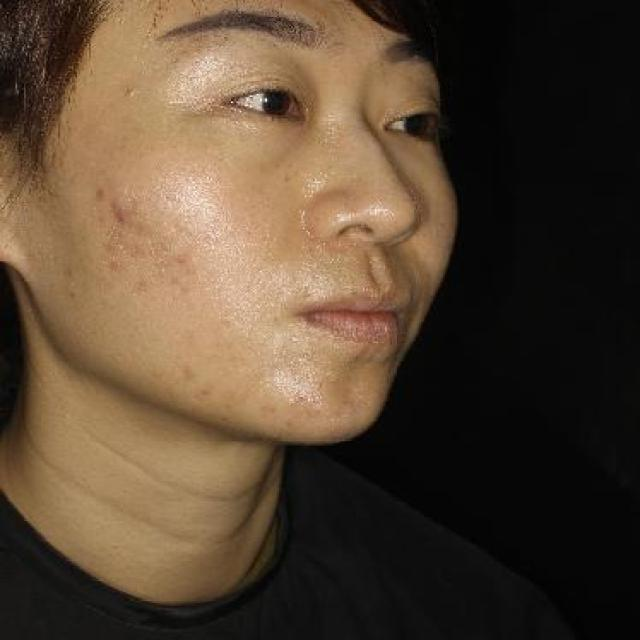blackheads: (164, 55, 183, 71), (118, 86, 139, 97)
dark spot: (186, 383, 214, 402), (171, 250, 193, 268), (178, 363, 202, 379), (89, 184, 108, 202)
papules: (106, 200, 137, 229)
